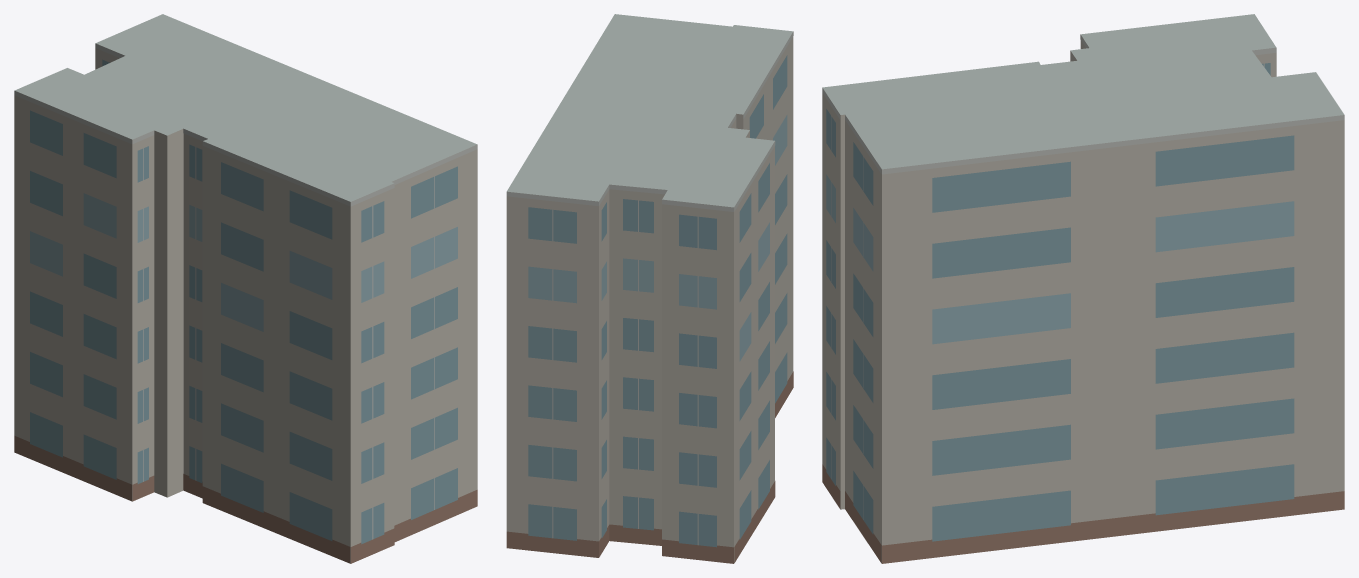
The model's file is survey-upis-33015410.glb.
3 views of the same model, side by side, from view 1: azimuth 30°, elevation 25°; view 2: azimuth 150°, elevation 25°; view 3: azimuth 270°, elevation 25° (orthographic). The views are drawn at different scales.
Visible parts, largest first — view 1: survey-upis-33015410.tmp; view 2: survey-upis-33015410.tmp; view 3: survey-upis-33015410.tmp.
Part boxes in pixels (bbox=[...]): survey-upis-33015410.tmp: bbox=[14, 14, 477, 563]; survey-upis-33015410.tmp: bbox=[506, 14, 793, 563]; survey-upis-33015410.tmp: bbox=[822, 14, 1344, 563].
Bounding box in the file's own units: 15.81 × 18.7 × 22.45.
